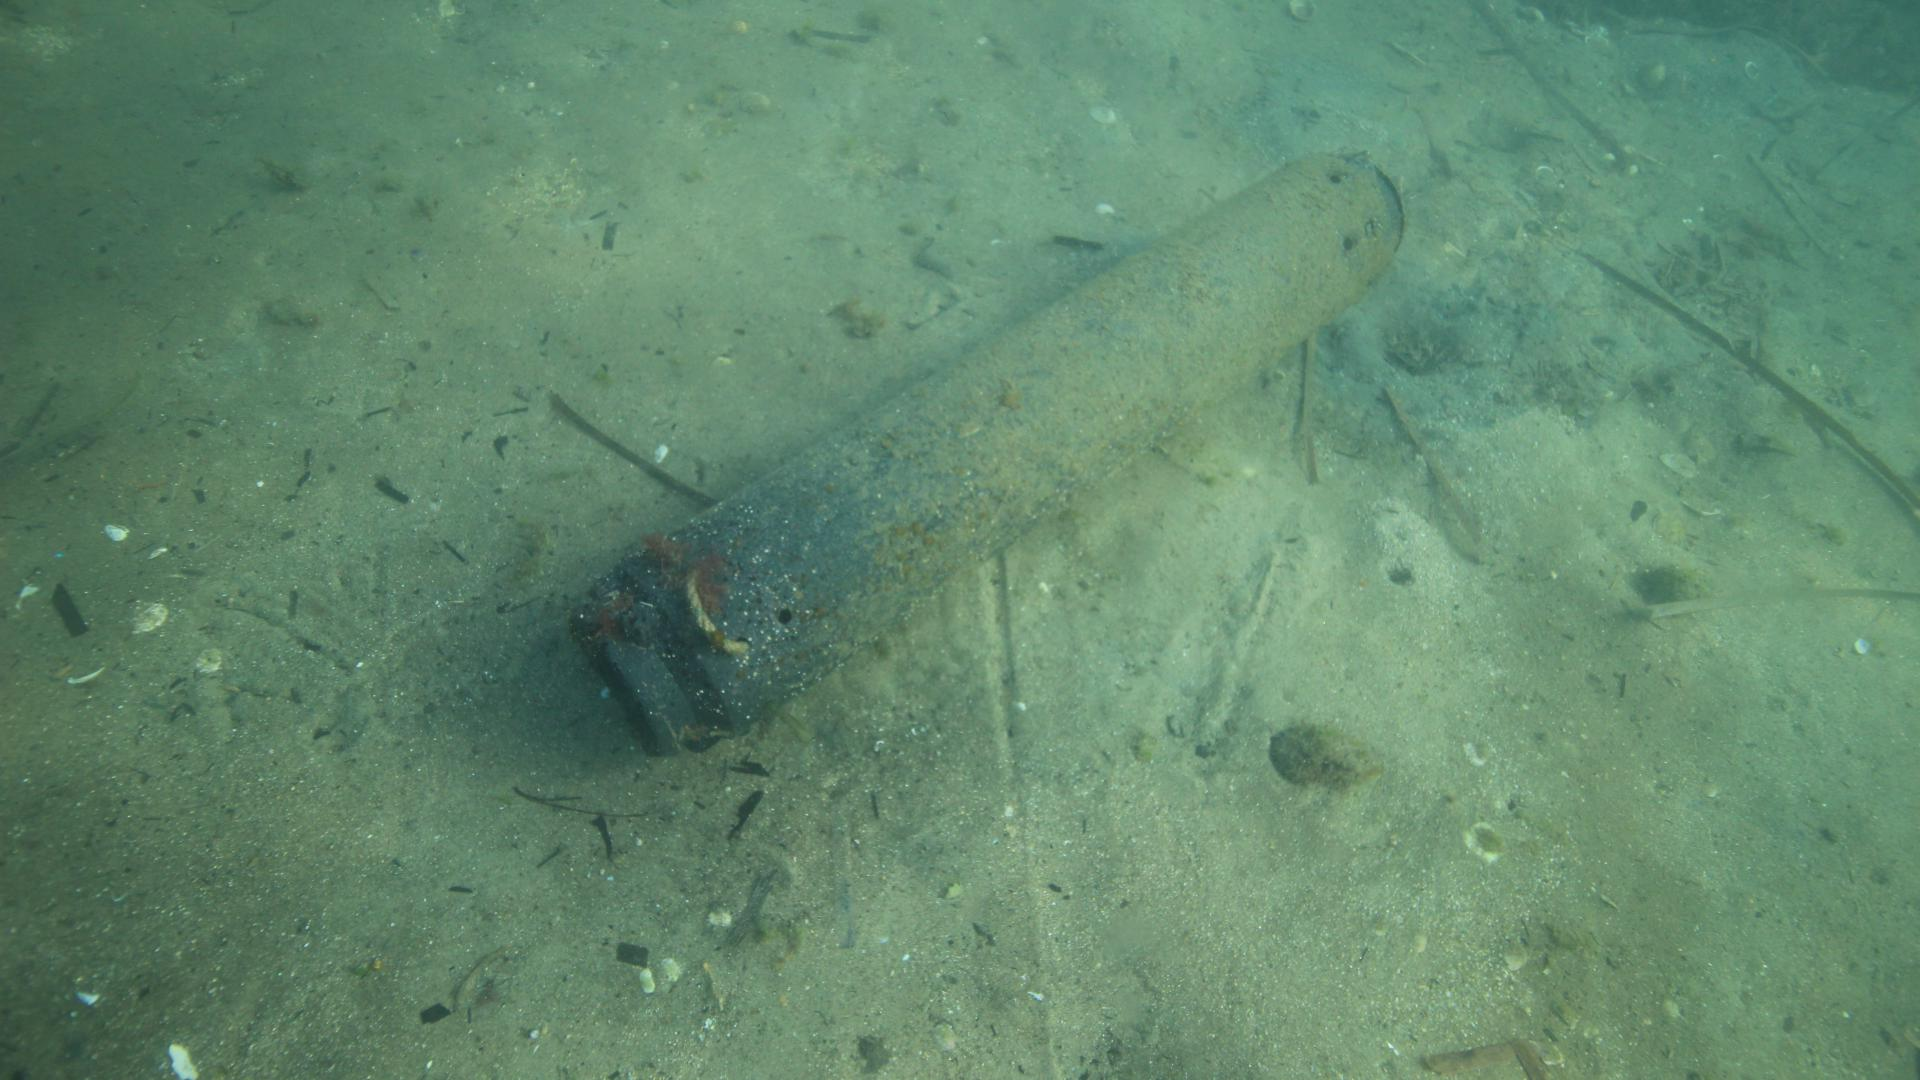eel fish trap: (564, 146, 1410, 753)
rope: (680, 571, 756, 655)
